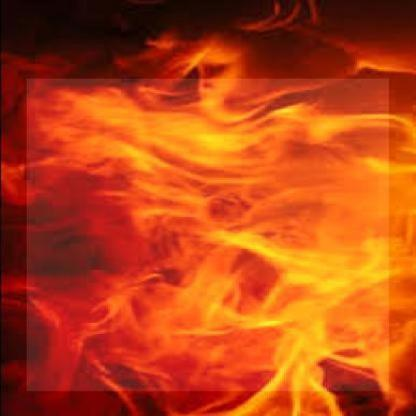Fire: (3, 16, 416, 416)
